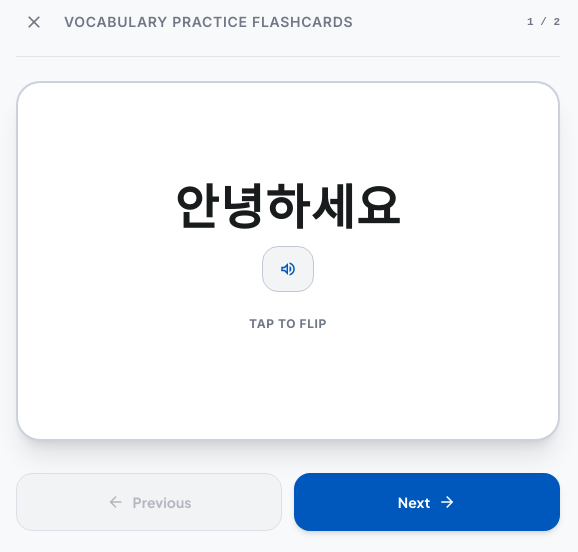
Scenario: Student Vocab Flashcard Lesson Screen › navigates with Next and Previous buttons
Expected: the button "Previous" is disabled, [16,473,282,531]
Click the button "Next" at (427, 502), box [294,473,560,531]
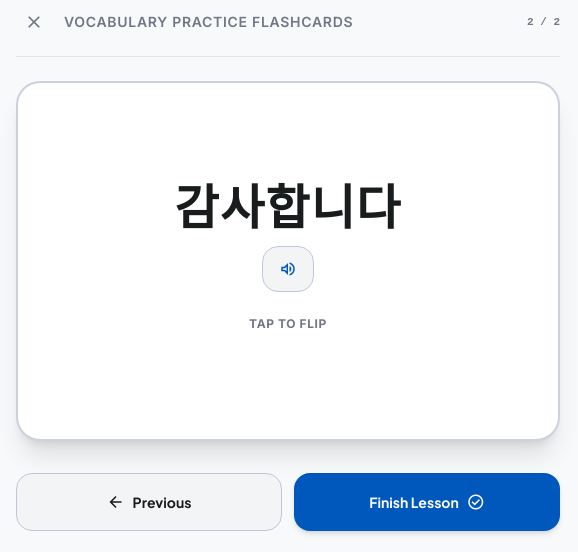
Now the button "Previous" is enabled
Click the button "Previous" at (149, 502), box [16,473,282,531]
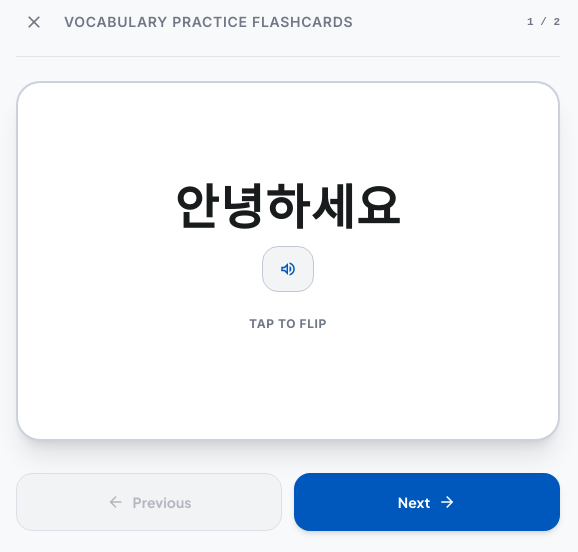
Now the button "Previous" is disabled, box [16,473,282,531]
